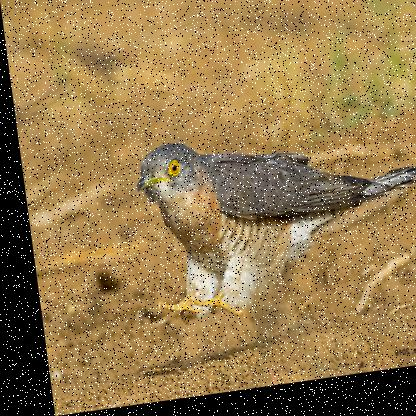Burung: (126, 118, 415, 335)
